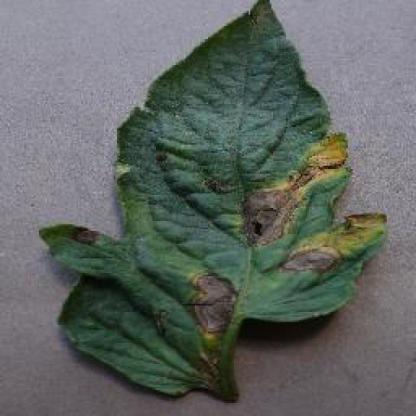Tomato_Blight: (40, 0, 386, 393)
